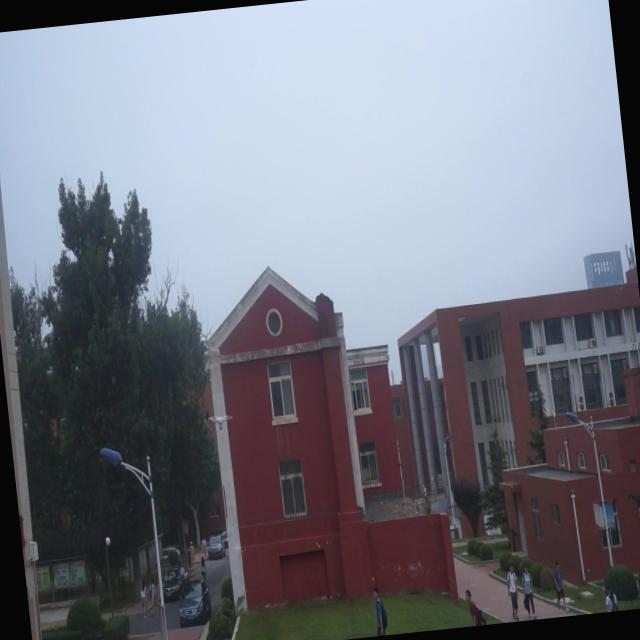drone: (205, 408, 234, 436)
